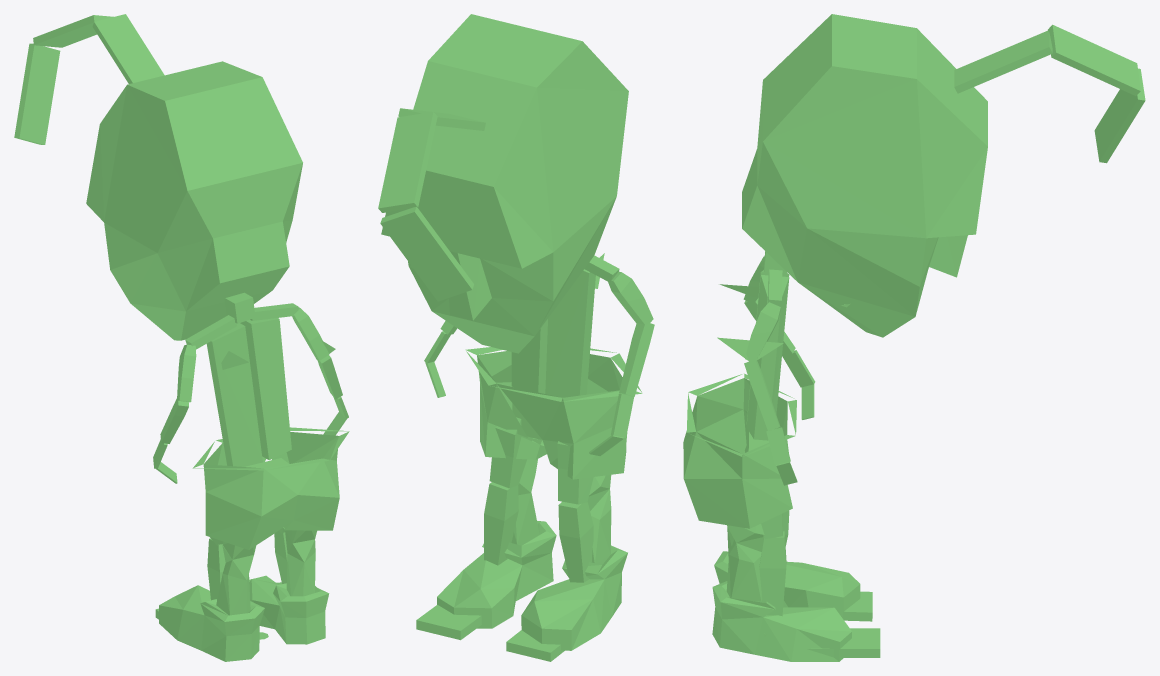
File: jimpickup.glb
The picture shows the model from 3 angles, left to right: view 1: azimuth 30°, elevation 25°; view 2: azimuth 150°, elevation 25°; view 3: azimuth 270°, elevation 25°; orthographic projection. The views are drawn at different scales.
Parts seen in each view (by area): view 1: jimpickup; view 2: jimpickup; view 3: jimpickup.
Boxes of the visible parts, x1,y1,x2,y2 form: jimpickup: [14, 14, 349, 661]; jimpickup: [378, 14, 654, 661]; jimpickup: [683, 14, 1145, 661].
Size of the model in its own units: 58.95 by 163 by 117.
